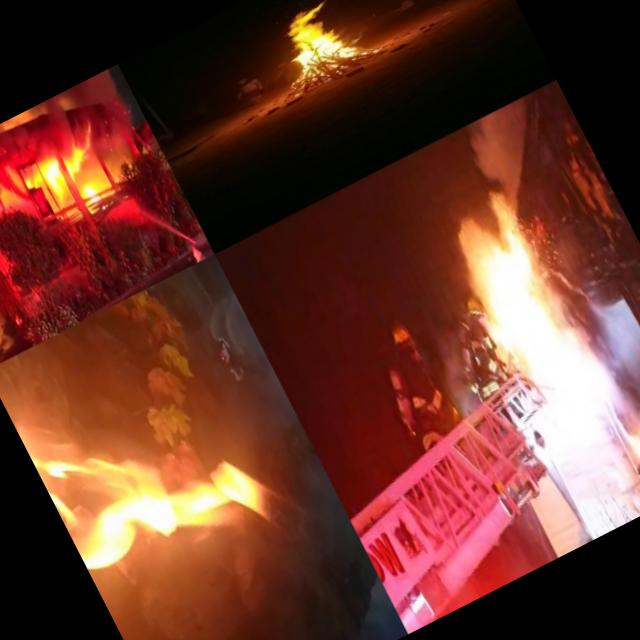fire: (434, 174, 640, 509), (156, 379, 401, 640), (263, 0, 376, 87), (27, 122, 113, 202), (76, 178, 111, 215), (18, 165, 47, 201)
smoke: (0, 66, 130, 196), (89, 104, 148, 168)
